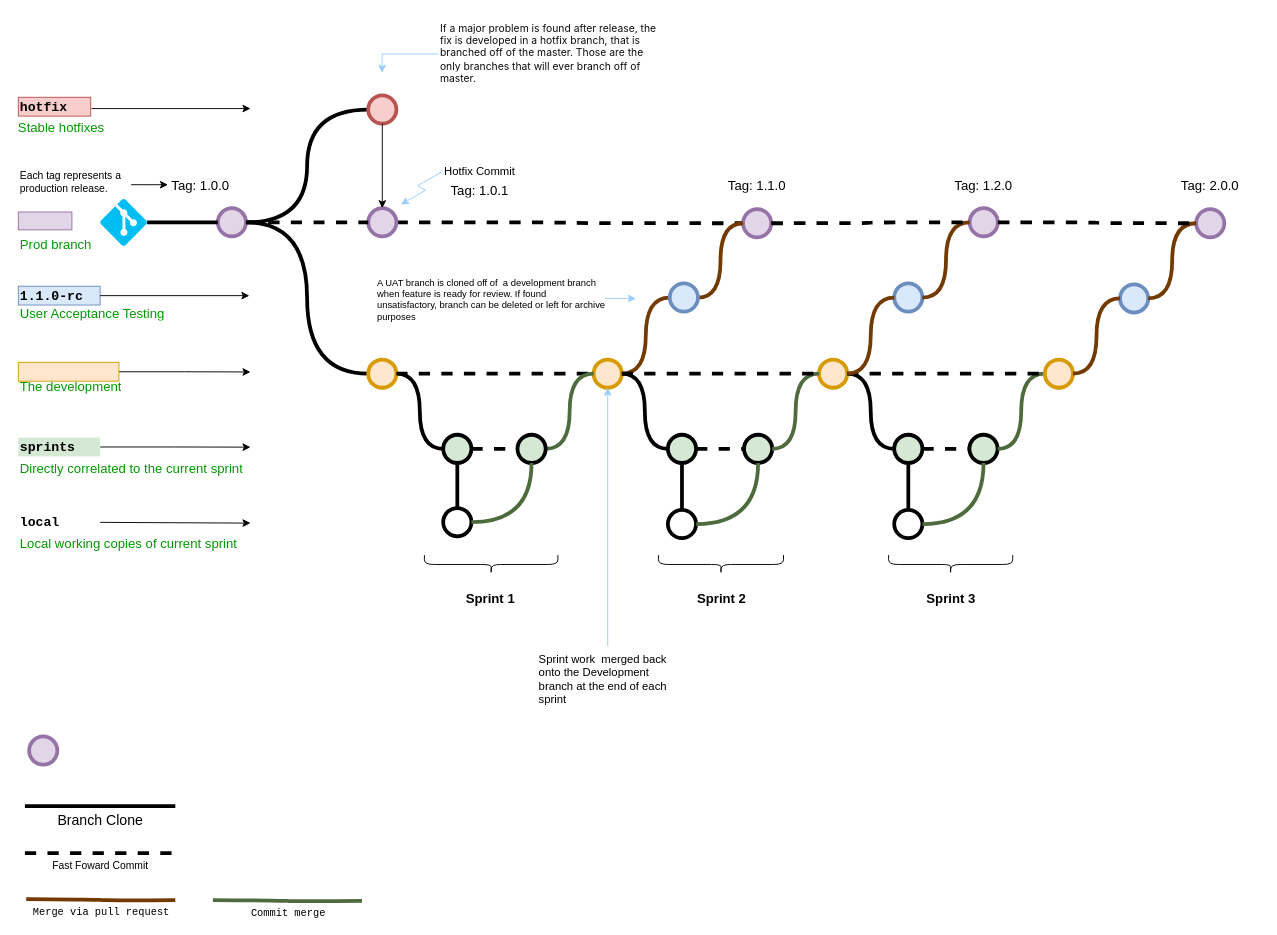
Some shapes in this 1277 by 935 pixel diagram are drawn without their labels. Each missing label, with the centre of its shape:
commit: [43,750]
development: [68,371]
stable: [44,220]
